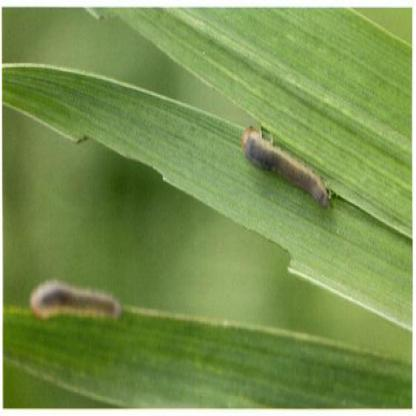sawfly: (237, 106, 336, 218), (28, 275, 128, 337)
